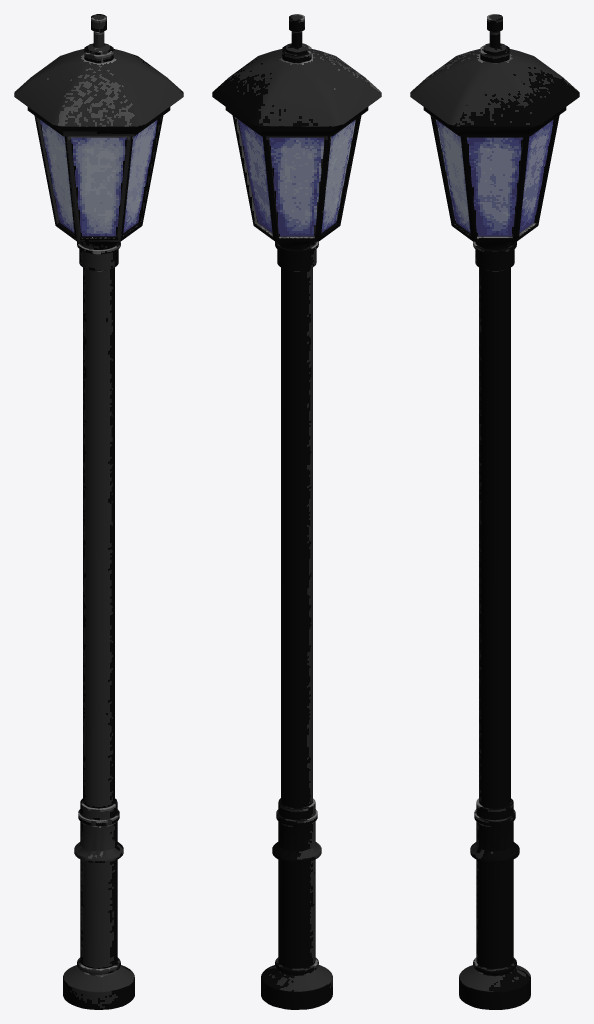
The model's file is park_lamp.glb.
The picture shows the model from 3 angles, left to right: view 1: azimuth 30°, elevation 25°; view 2: azimuth 150°, elevation 25°; view 3: azimuth 270°, elevation 25°; orthographic projection.
Parts seen in each view (by area): view 1: mesh; view 2: mesh; view 3: mesh.
Part boxes in pixels (x1,y1,x2,y2): mesh: (14, 14, 183, 1009); mesh: (212, 14, 381, 1009); mesh: (410, 14, 579, 1009).
Size of the model in its own units: 0.6686 by 4.75 by 0.7445.
1 material, 1 textured.
